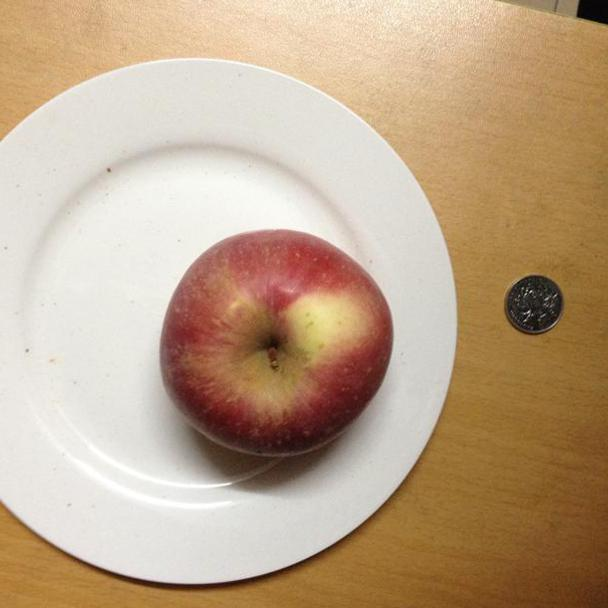apple: (160, 229, 394, 456)
